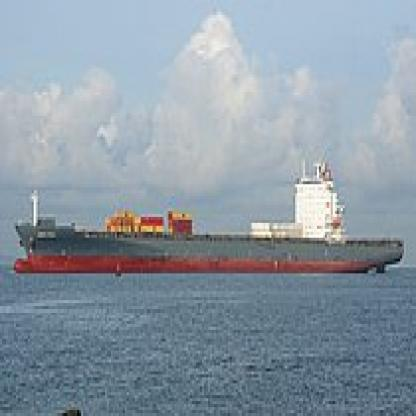Tanker: (10, 152, 408, 276)
